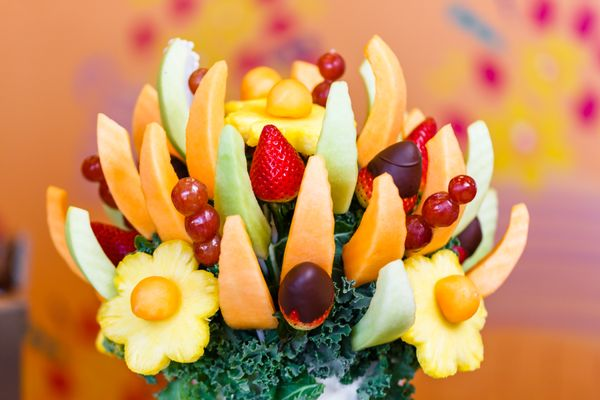pizza: (218, 214, 278, 330)
